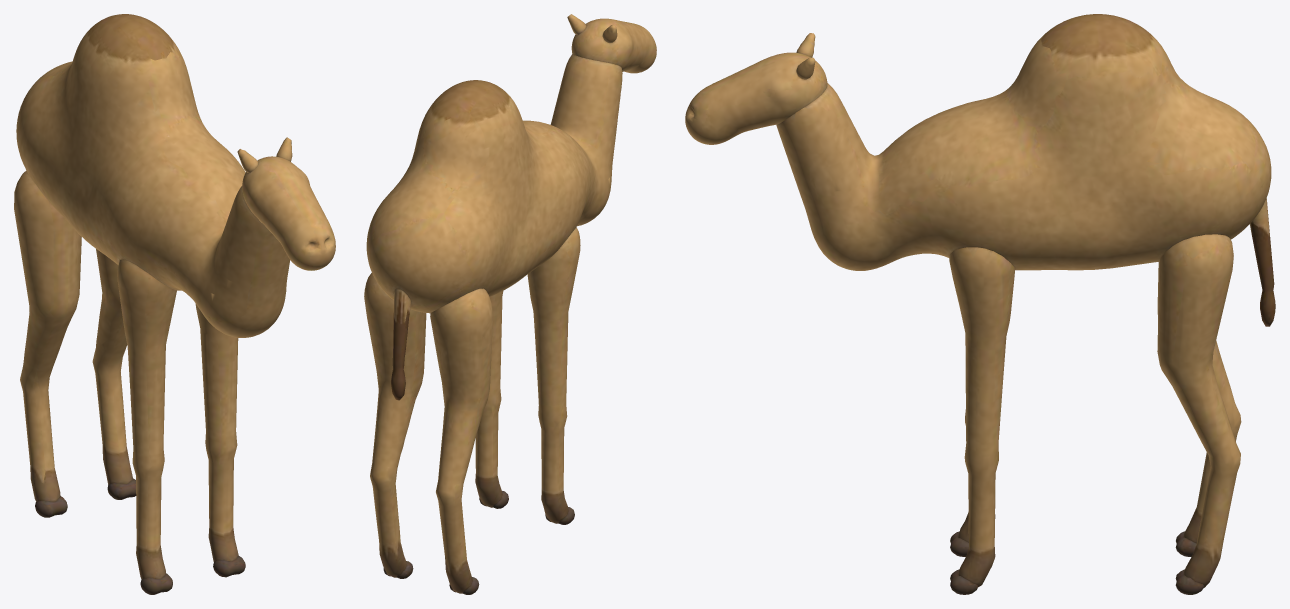
File: animal_camel.glb
The picture shows the model from 3 angles, left to right: view 1: azimuth 30°, elevation 25°; view 2: azimuth 150°, elevation 25°; view 3: azimuth 270°, elevation 25°; orthographic projection. The views are drawn at different scales.
Visible parts, largest first — view 1: animal_camel, leg2, leg0, leg1, head, leg3; view 2: animal_camel, leg2, leg3, leg0, head, leg1, tail; view 3: animal_camel, leg3, leg1, head, leg2, tail.
Part boxes in pixels (x1,y1,x2,y2): animal_camel: (16,14,290,337); leg2: (14,170,81,517); leg0: (117,259,176,594); leg1: (195,303,245,577); head: (237,137,335,270); leg3: (92,249,136,499); animal_camel: (366,54,622,313); leg2: (430,288,492,594); leg3: (364,273,426,578); leg0: (527,227,580,524); head: (567,14,656,73); leg1: (475,291,508,508); tail: (391,288,410,400); animal_camel: (776,14,1271,270); leg3: (1157,234,1240,594); leg1: (949,247,1015,594); head: (685,33,827,144); leg2: (1157,261,1241,556); tail: (1249,198,1275,326).
Bounding box in the file's own units: 0.2115 × 0.7908 × 0.7638.
1 material, 1 textured.
